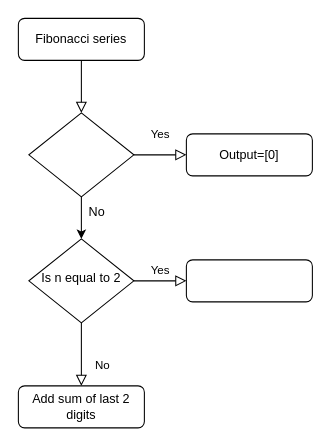
Some shapes in this 331 by 446 pixel diagram are drawn without their labels. Here are the shapes that lost their labels. From the top down, the box of each, then its label:
(28, 112, 134, 197): Is n equal to 1
(185, 259, 312, 302): Output=[0,1]
